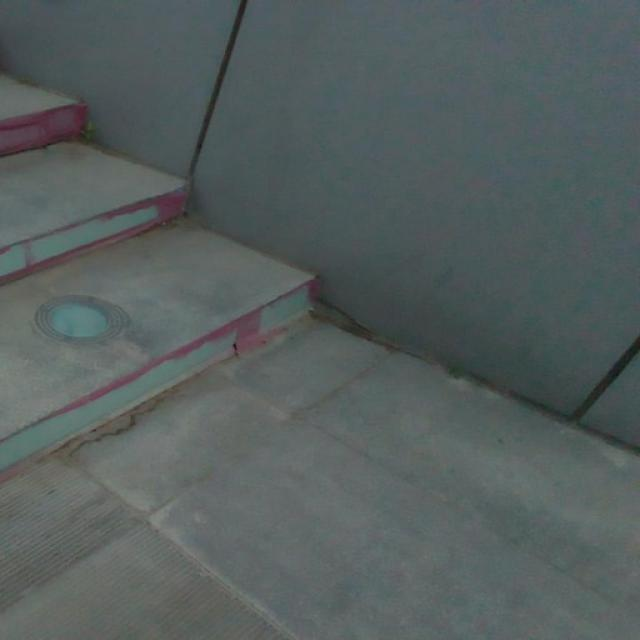stair: (0, 80, 262, 471)
